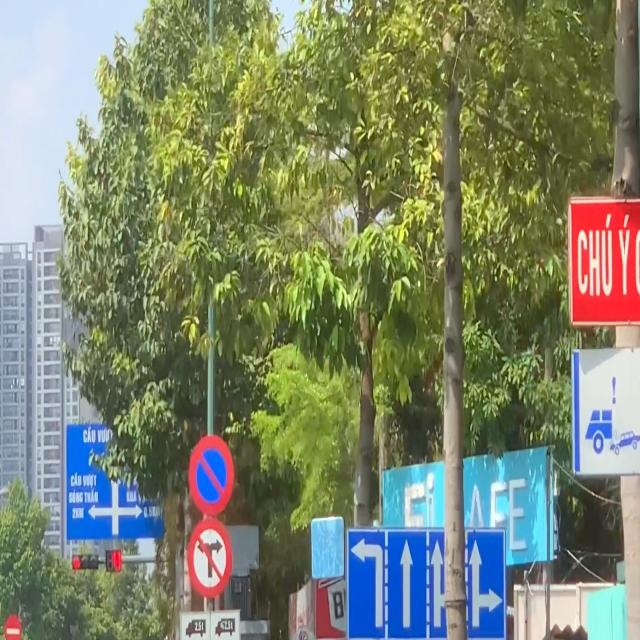Cam con lai: (185, 517, 237, 596)
Cam do: (185, 429, 236, 517)
Cam nguoc chieu: (4, 610, 23, 640)
